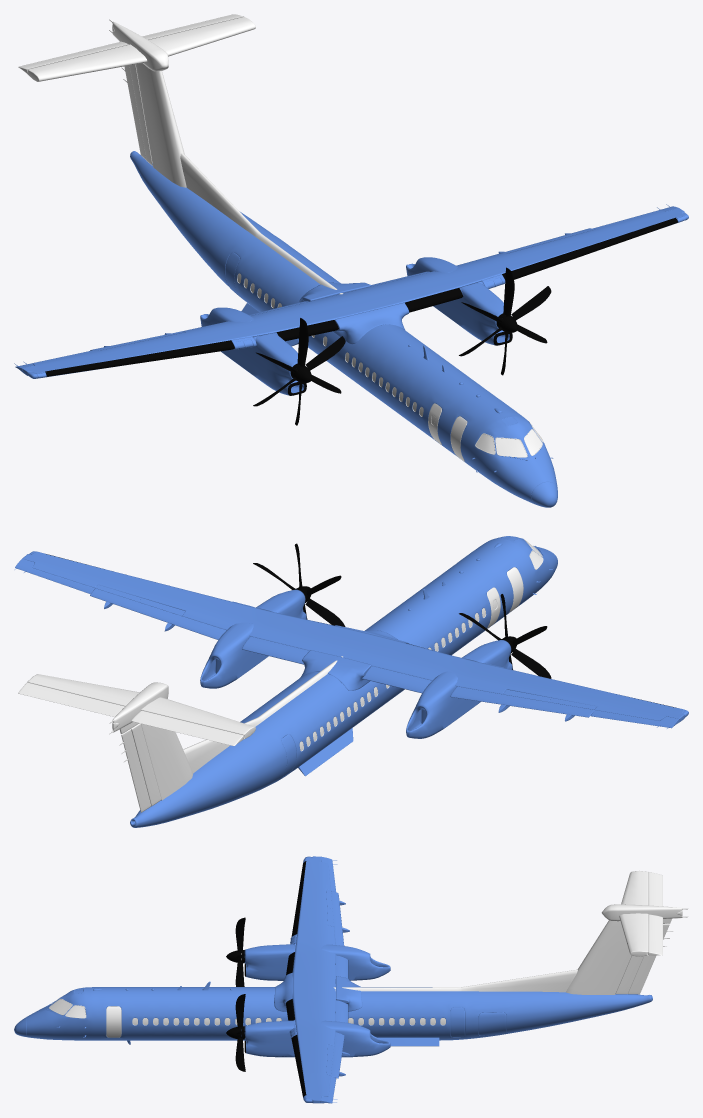
The model's file is Самолет.glb.
3 renders of one model, top to bottom at view 1: azimuth 30°, elevation 25°; view 2: azimuth 150°, elevation 25°; view 3: azimuth 270°, elevation 25°, orthographic. The views are drawn at different scales.
Parts seen in each view (by area): view 1: Object_6; view 2: Object_6; view 3: Object_6.
Boxes of the visible parts, x1=… form: Object_6: x1=14, y1=14, x2=688, y2=507; Object_6: x1=14, y1=536, x2=688, y2=827; Object_6: x1=14, y1=856, x2=688, y2=1103.
Bounding box in the file's own units: 28.31 × 7.5 × 33.11.
